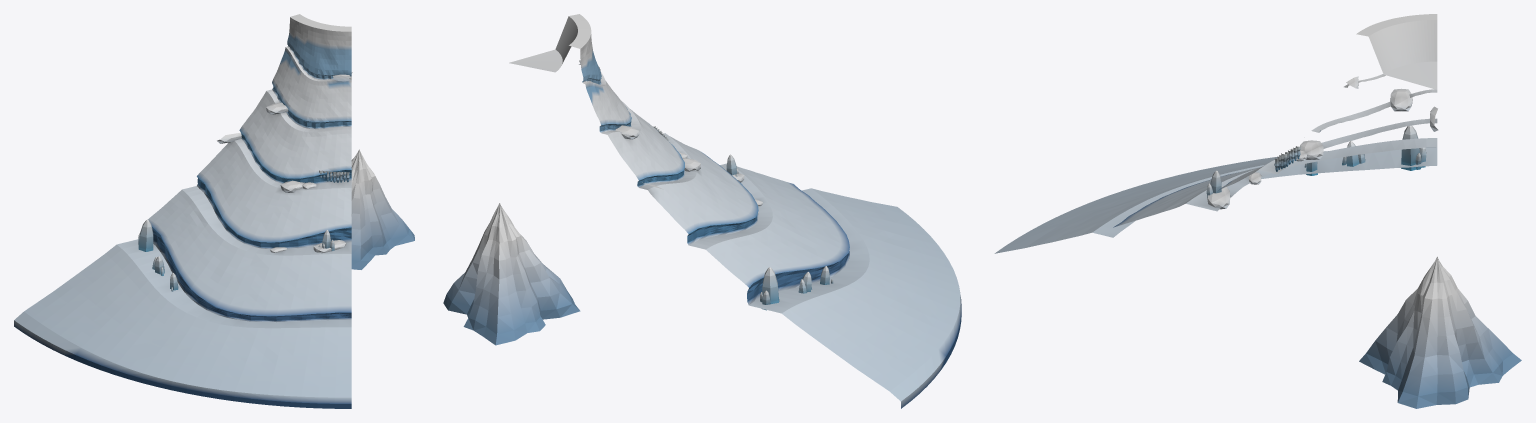
File: glacier-s6-CFbNoS6X.glb
3 views of the same model, side by side, from view 1: azimuth 30°, elevation 25°; view 2: azimuth 150°, elevation 25°; view 3: azimuth 270°, elevation 25° (orthographic). The views are drawn at different scales.
Parts seen in each view (by area): view 1: sc_landmark_3, sc_peak_1; view 2: sc_landmark_3, sc_peak_1; view 3: sc_landmark_3, sc_peak_1.
Part boxes in pixels (x1=…): sc_landmark_3: x1=14, y1=14, x2=352, y2=408; sc_peak_1: x1=351, y1=149, x2=414, y2=269; sc_landmark_3: x1=509, y1=14, x2=961, y2=408; sc_peak_1: x1=443, y1=203, x2=580, y2=345; sc_landmark_3: x1=994, y1=14, x2=1438, y2=253; sc_peak_1: x1=1359, y1=256, x2=1521, y2=408.
Bounding box in the file's own units: 484 × 286 × 429.
